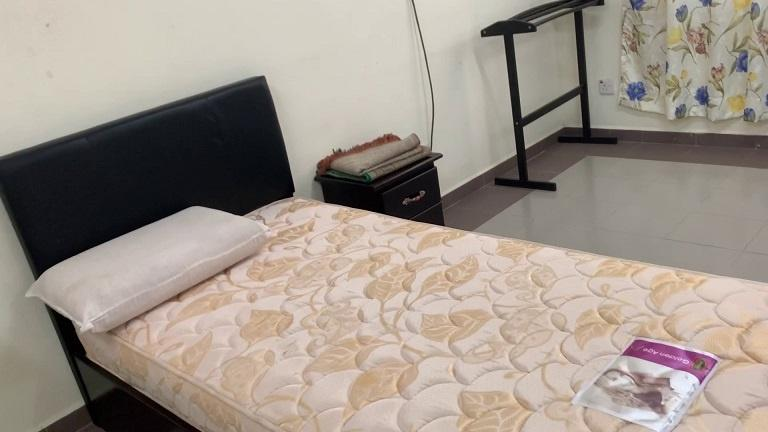bed: (0, 84, 765, 432), (318, 159, 470, 229)
